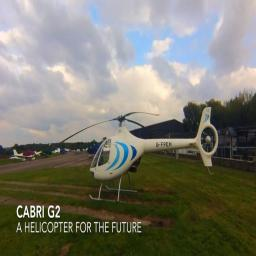helicopter: (55, 109, 221, 201)
